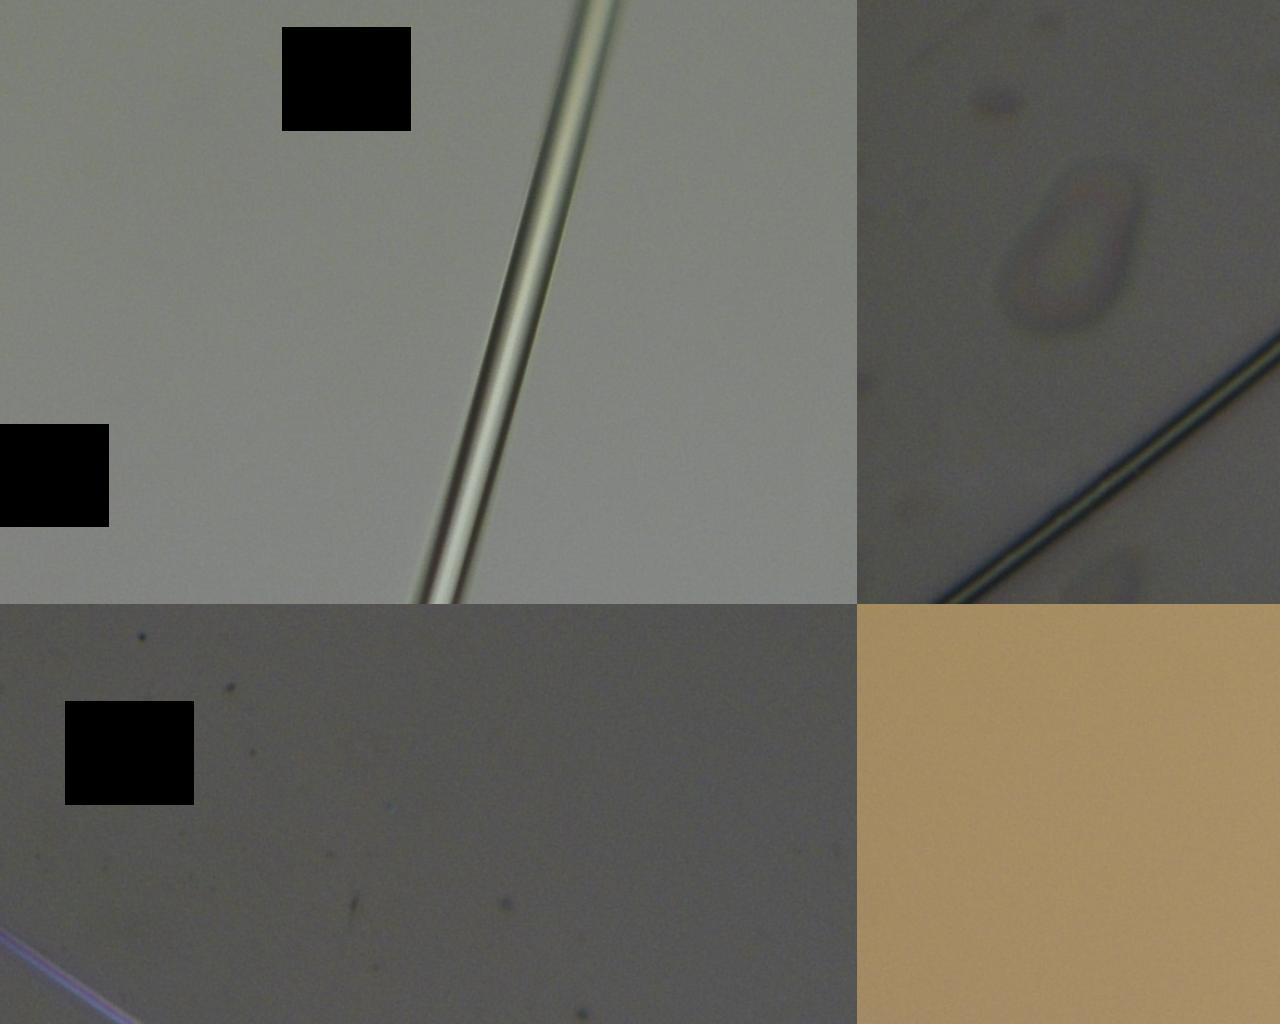fiber: (127, 234, 1151, 335)
